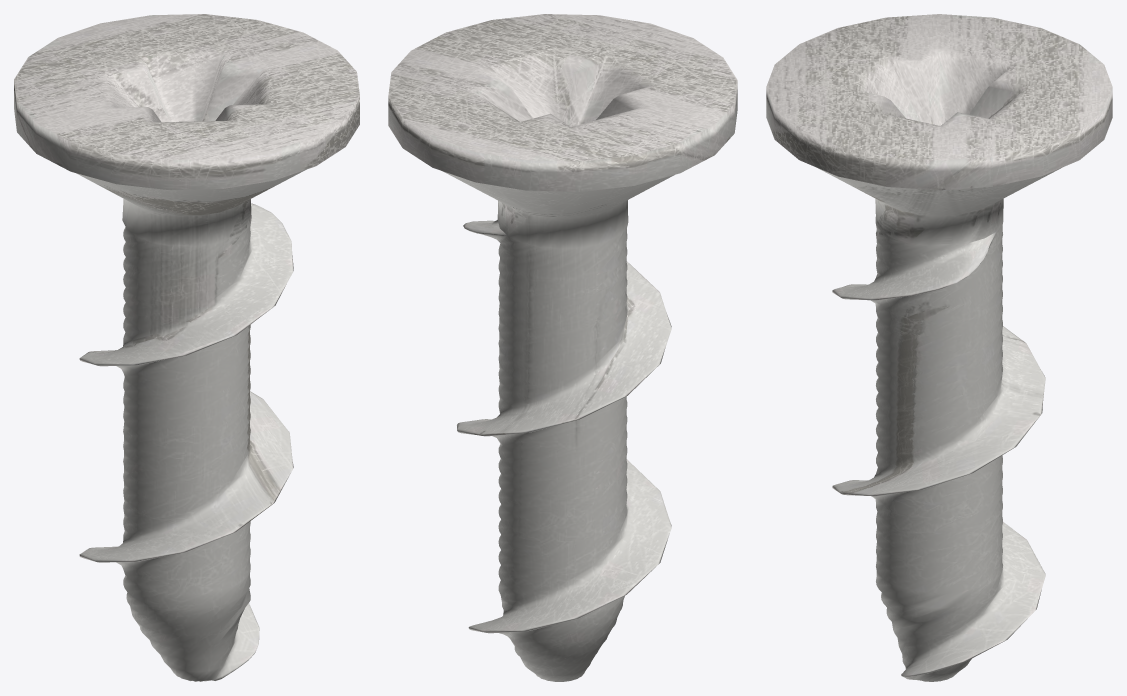
File: screw.glb
The picture shows the model from 3 angles, left to right: view 1: azimuth 30°, elevation 25°; view 2: azimuth 150°, elevation 25°; view 3: azimuth 270°, elevation 25°; orthographic projection.
Visible parts, largest first — view 1: screw; view 2: screw; view 3: screw.
Boxes of the visible parts, x1,y1,x2,y2 form: screw: (14, 14, 359, 681); screw: (388, 14, 737, 681); screw: (766, 14, 1112, 681).
Size of the model in its own units: 1.07 by 2 by 1.07.
1 material, 1 textured.
